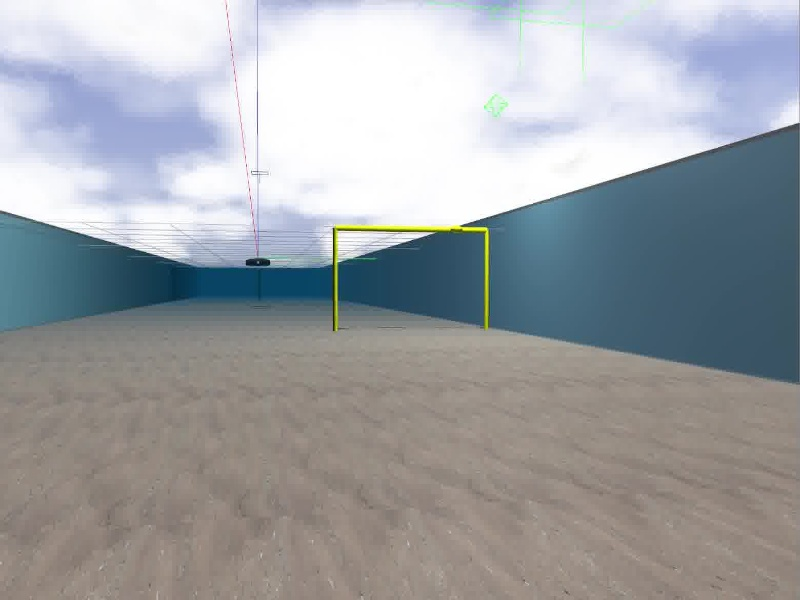gate: (330, 222, 494, 335)
